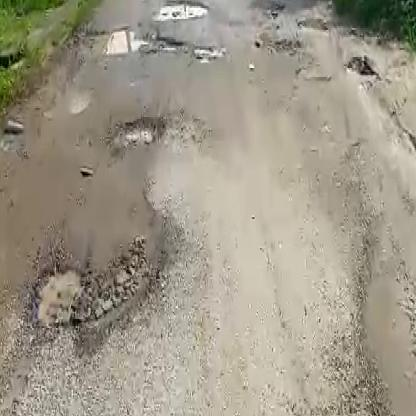pothole: (18, 226, 176, 351), (96, 25, 185, 56), (108, 114, 171, 150), (154, 0, 213, 19), (194, 42, 226, 60)
